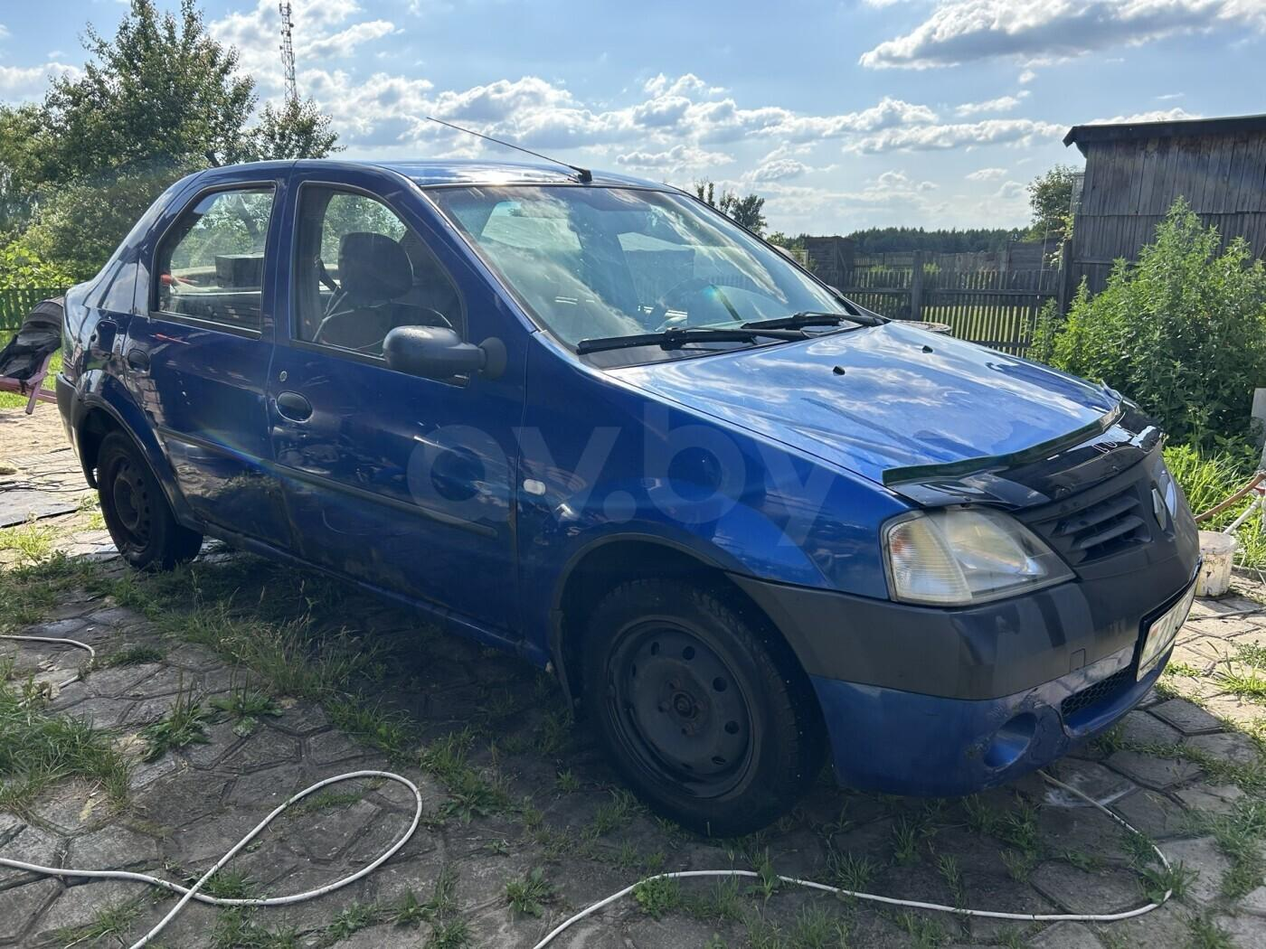Logan_2004-2009: (56, 152, 1210, 832)
